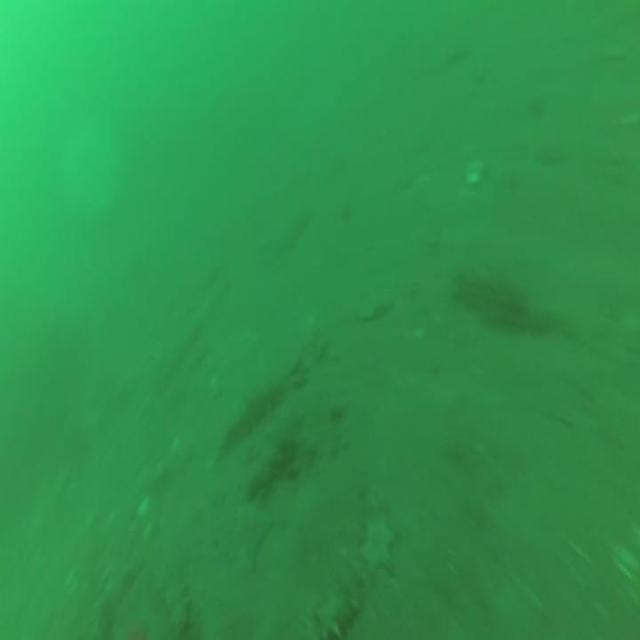holothurian: (217, 376, 283, 455), (452, 270, 529, 332), (242, 419, 309, 488), (310, 575, 359, 640), (160, 572, 193, 635)
starfish: (230, 507, 270, 574), (359, 515, 397, 577)
